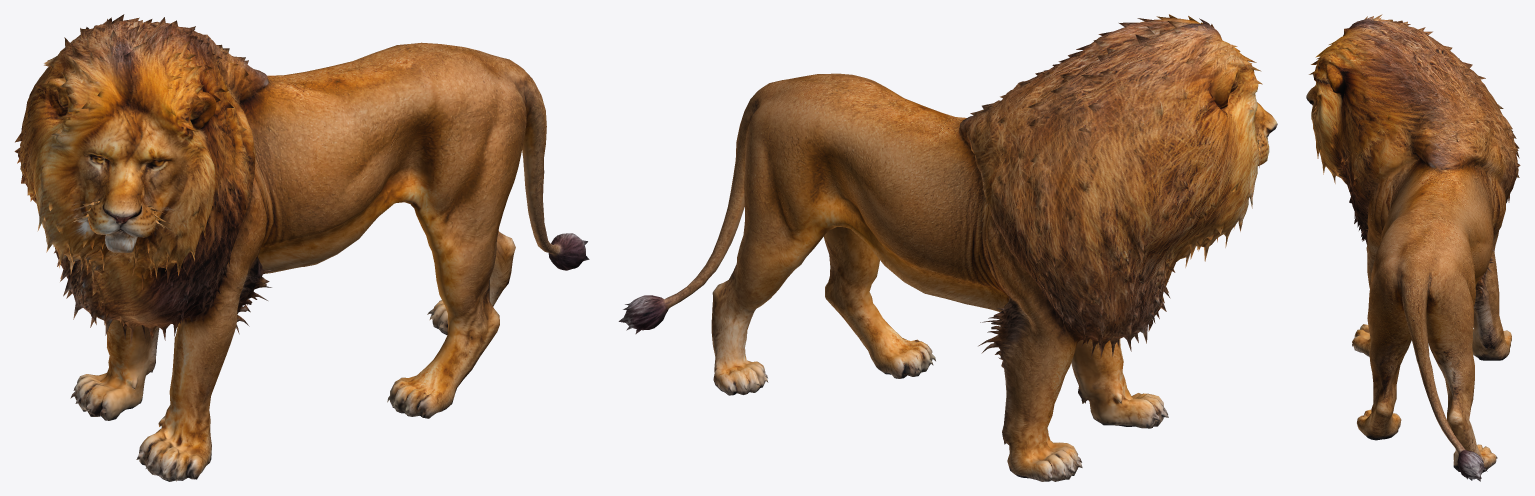
The model's file is d1b16bef-b75c-48e4-8e39-86ac9f1971fd.glb.
The picture shows the model from 3 angles, left to right: view 1: azimuth 30°, elevation 25°; view 2: azimuth 150°, elevation 25°; view 3: azimuth 270°, elevation 25°; orthographic projection. The views are drawn at different scales.
Parts seen in each view (by area): view 1: tripo_node_7161c70d-3fca-435d-8ebb-c31c78eff2df; view 2: tripo_node_7161c70d-3fca-435d-8ebb-c31c78eff2df; view 3: tripo_node_7161c70d-3fca-435d-8ebb-c31c78eff2df.
Boxes of the visible parts, x1,y1,x2,y2 form: tripo_node_7161c70d-3fca-435d-8ebb-c31c78eff2df: (14,14,589,481); tripo_node_7161c70d-3fca-435d-8ebb-c31c78eff2df: (618,14,1277,481); tripo_node_7161c70d-3fca-435d-8ebb-c31c78eff2df: (1306,14,1520,481).
Size of the model in its own units: 1 by 0.6947 by 0.4325.
Materials: 1 (1 with a texture image).
